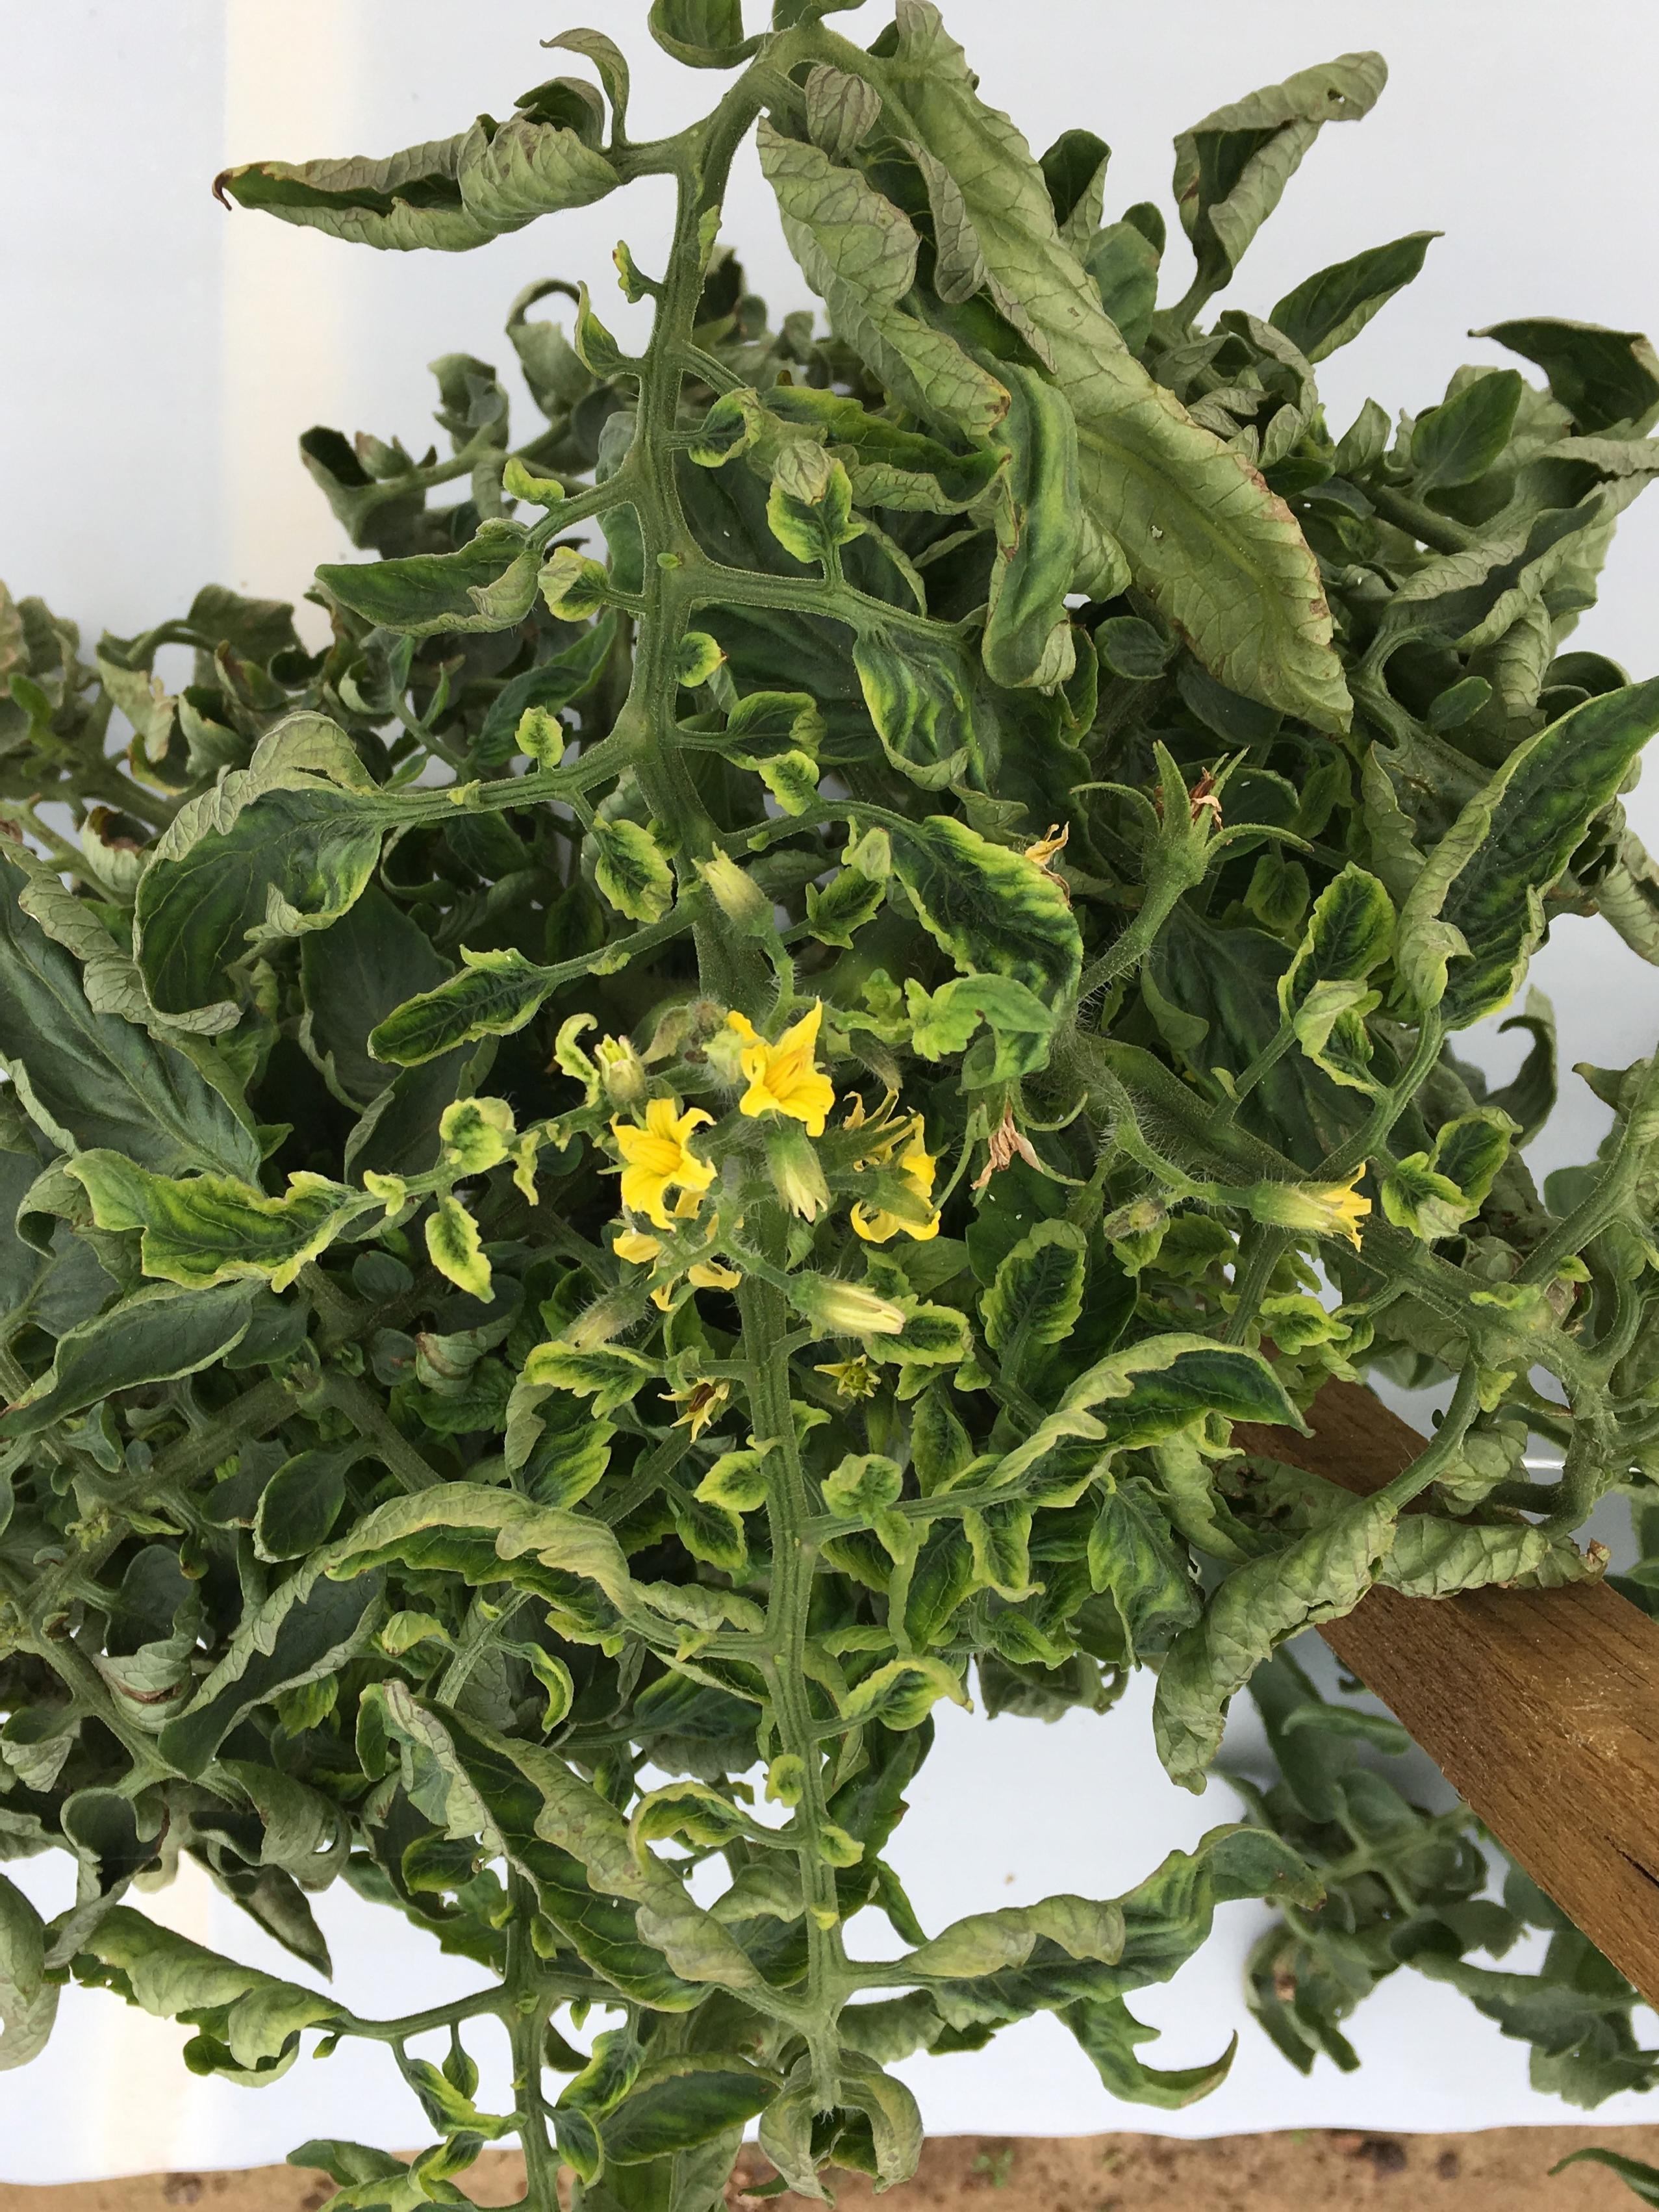Tomato leaf yellow virus: (123, 670, 406, 1068), (222, 1488, 739, 1701), (949, 1315, 1315, 1601), (14, 1076, 387, 1323), (854, 796, 1110, 1096), (826, 619, 1093, 870), (1270, 832, 1431, 1100), (969, 1219, 1115, 1376)
